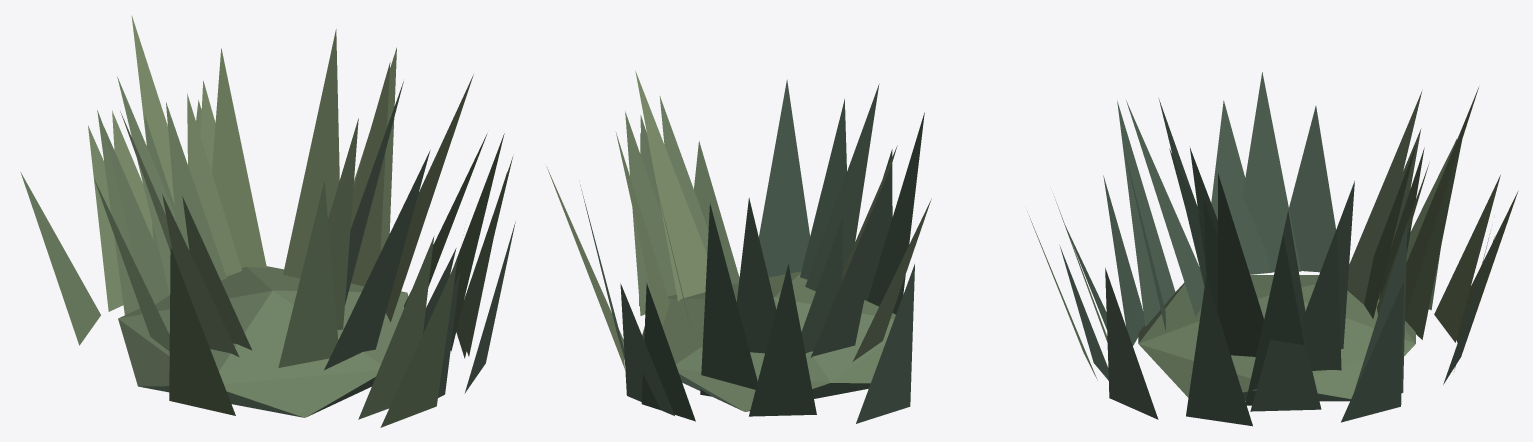
Rendered from bush_c.glb.
3 renders of one model, left to right at view 1: azimuth 30°, elevation 25°; view 2: azimuth 150°, elevation 25°; view 3: azimuth 270°, elevation 25°, orthographic. The views are drawn at different scales.
Visible parts, largest first — view 1: bush_c; view 2: bush_c; view 3: bush_c.
Part boxes in pixels (<box>): bush_c: <box>20,15,515,427</box>; bush_c: <box>546,71,931,423</box>; bush_c: <box>1027,72,1518,426</box>.
Bounding box in the file's own units: 1.73 × 1.15 × 1.8.
